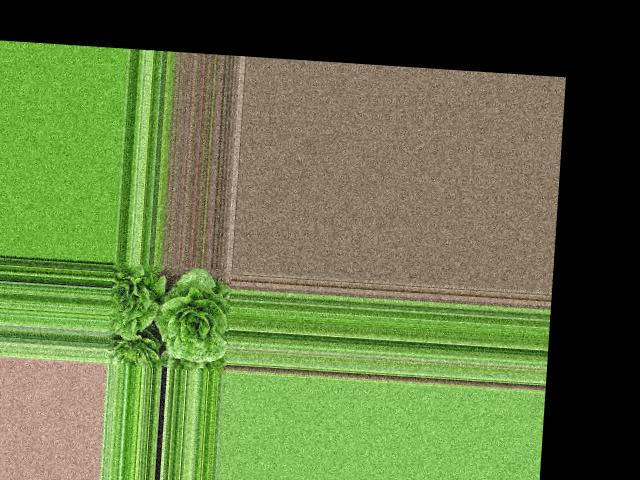lettuce: (106, 264, 160, 342)
